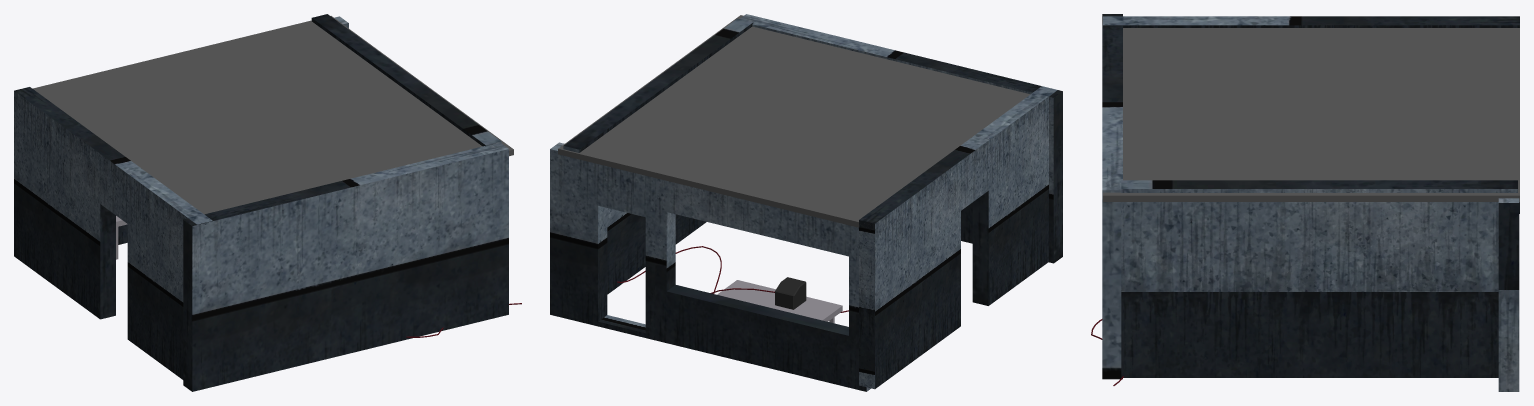
Rendered from office.glb.
The picture shows the model from 3 angles, left to right: view 1: azimuth 30°, elevation 25°; view 2: azimuth 150°, elevation 25°; view 3: azimuth 270°, elevation 25°; orthographic projection. The views are drawn at different scales.
Parts seen in each view (by area): view 1: mur1, plafond, mur3, mur2; view 2: plafond, mur fenetre, mur3, mur2, mur1, Bureau, ecran CRT; view 3: mur2, plafond, mur1, mur3, mur fenetre.
Boxes of the visible parts, bbox=[...] form: mur1: bbox=[183, 143, 508, 391]; plafond: bbox=[32, 16, 513, 214]; mur3: bbox=[14, 87, 212, 379]; mur2: bbox=[311, 14, 501, 146]; plafond: bbox=[558, 15, 1029, 227]; mur fenetre: bbox=[550, 142, 870, 391]; mur3: bbox=[859, 86, 1057, 389]; mur2: bbox=[563, 18, 753, 294]; mur1: bbox=[740, 14, 1062, 263]; Bureau: bbox=[717, 280, 842, 323]; ecran CRT: bbox=[775, 277, 806, 309]; mur2: bbox=[1121, 180, 1517, 377]; plafond: bbox=[1103, 28, 1519, 201]; mur1: bbox=[1102, 14, 1122, 379]; mur3: bbox=[1103, 16, 1519, 213]; mur fenetre: bbox=[1498, 198, 1519, 391].
Bounding box in the file's own units: 6.34 × 3.11 × 6.17.
14 materials, 2 textured.
